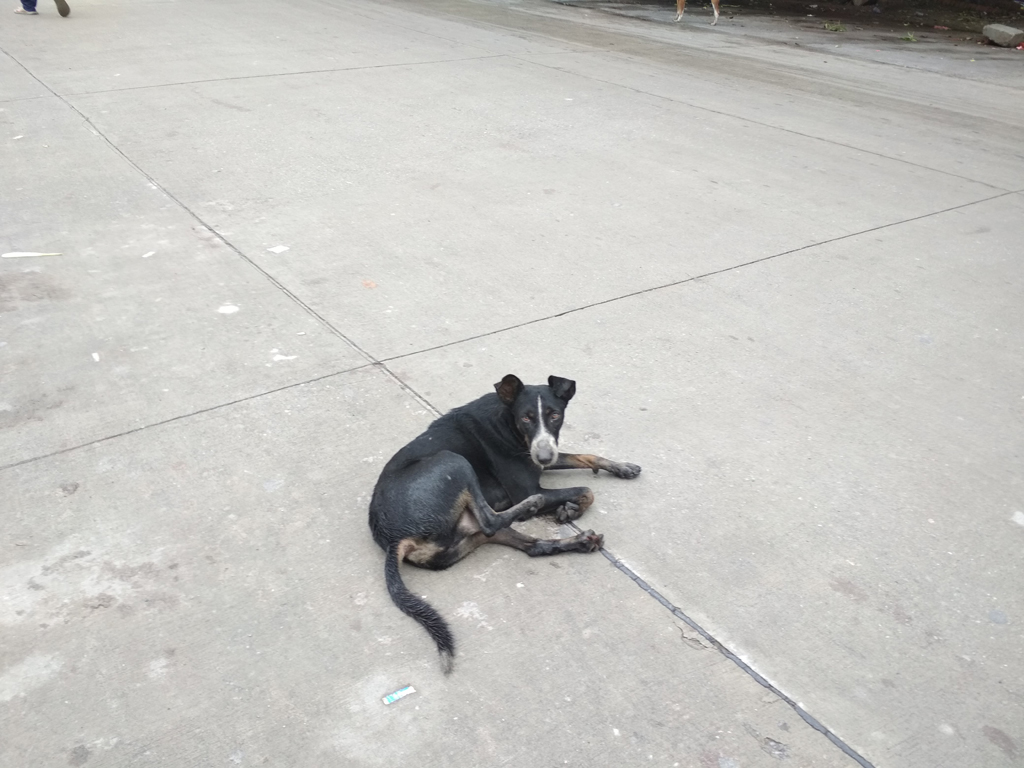dog: (369, 375, 641, 678)
